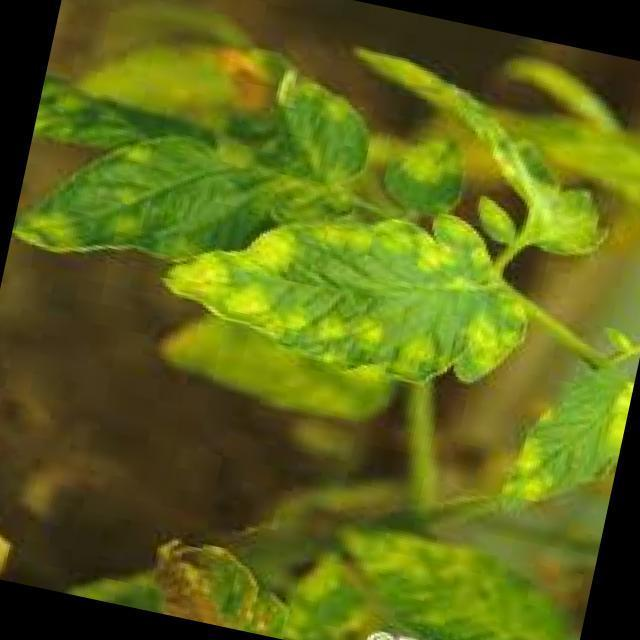Mosaic Virus: (145, 172, 553, 412), (9, 122, 230, 283), (494, 358, 634, 524), (251, 63, 380, 197), (372, 116, 487, 226)
